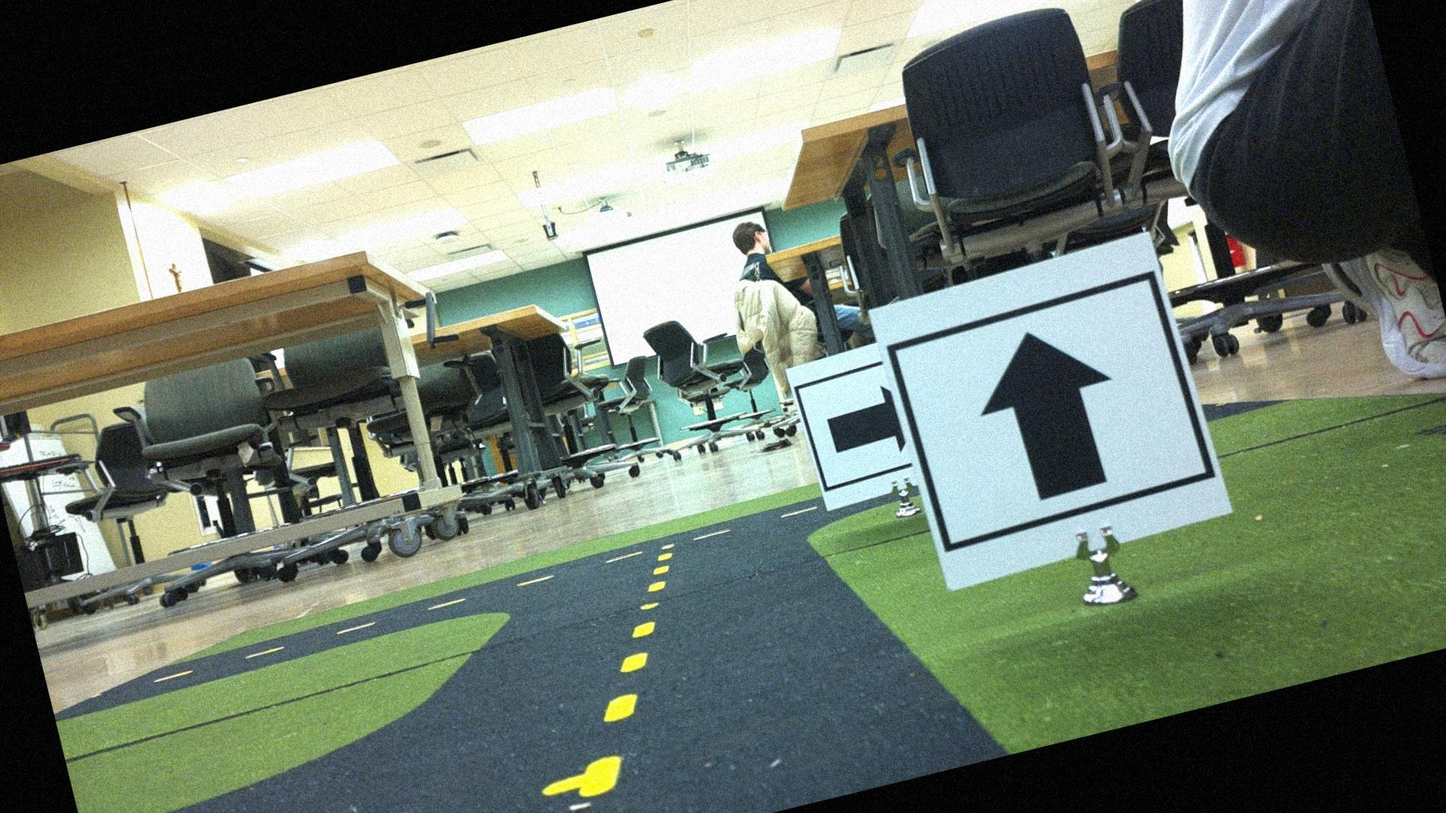gostraight: (873, 237, 1219, 597)
yellowline: (532, 543, 722, 799)
